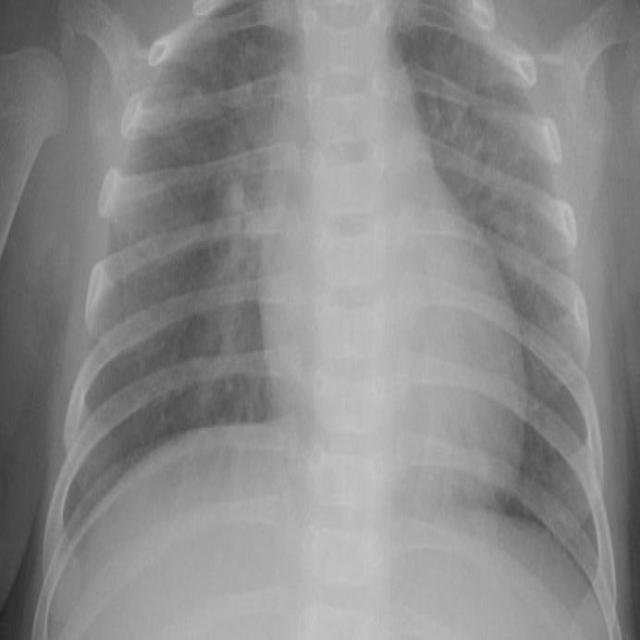low-pneumonia: (418, 68, 535, 280), (206, 81, 279, 391)
